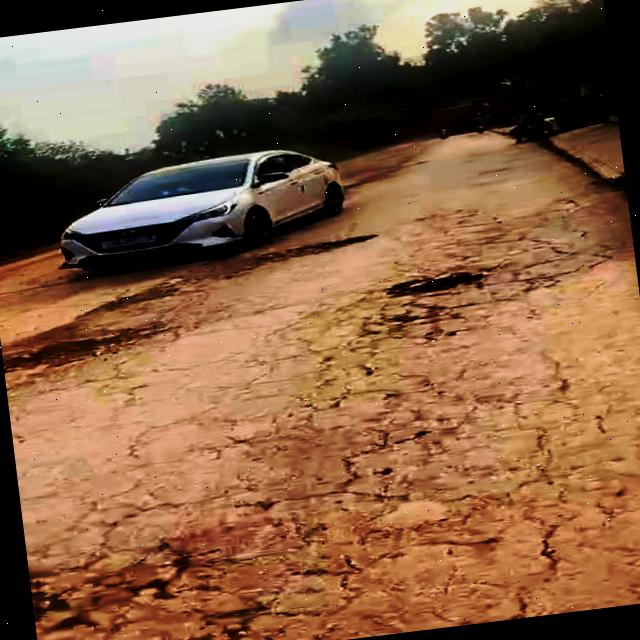pothole: (381, 262, 506, 301)
